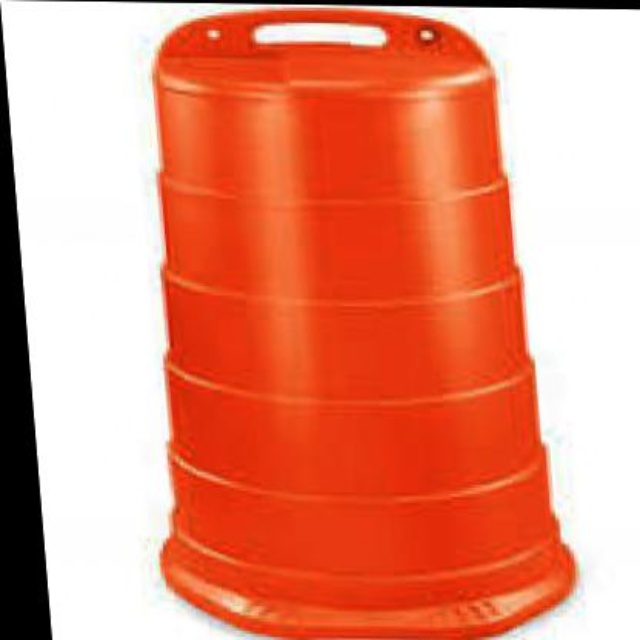obstacle: (123, 11, 589, 625)
